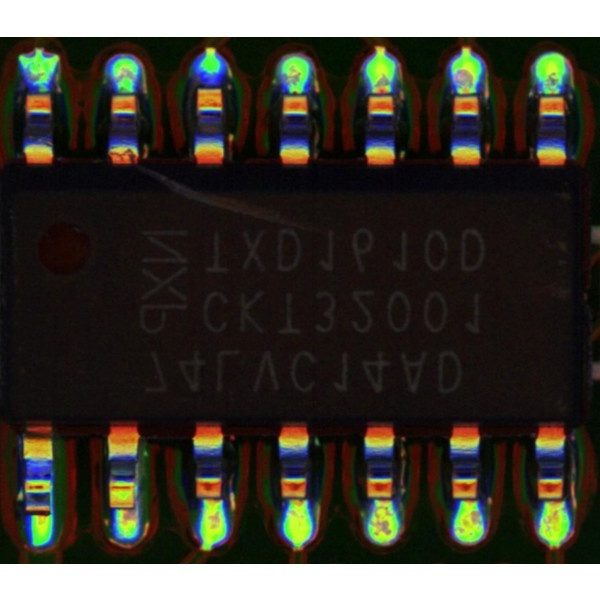Bad_podu: (372, 84, 391, 106), (32, 506, 50, 527), (116, 501, 135, 519)
